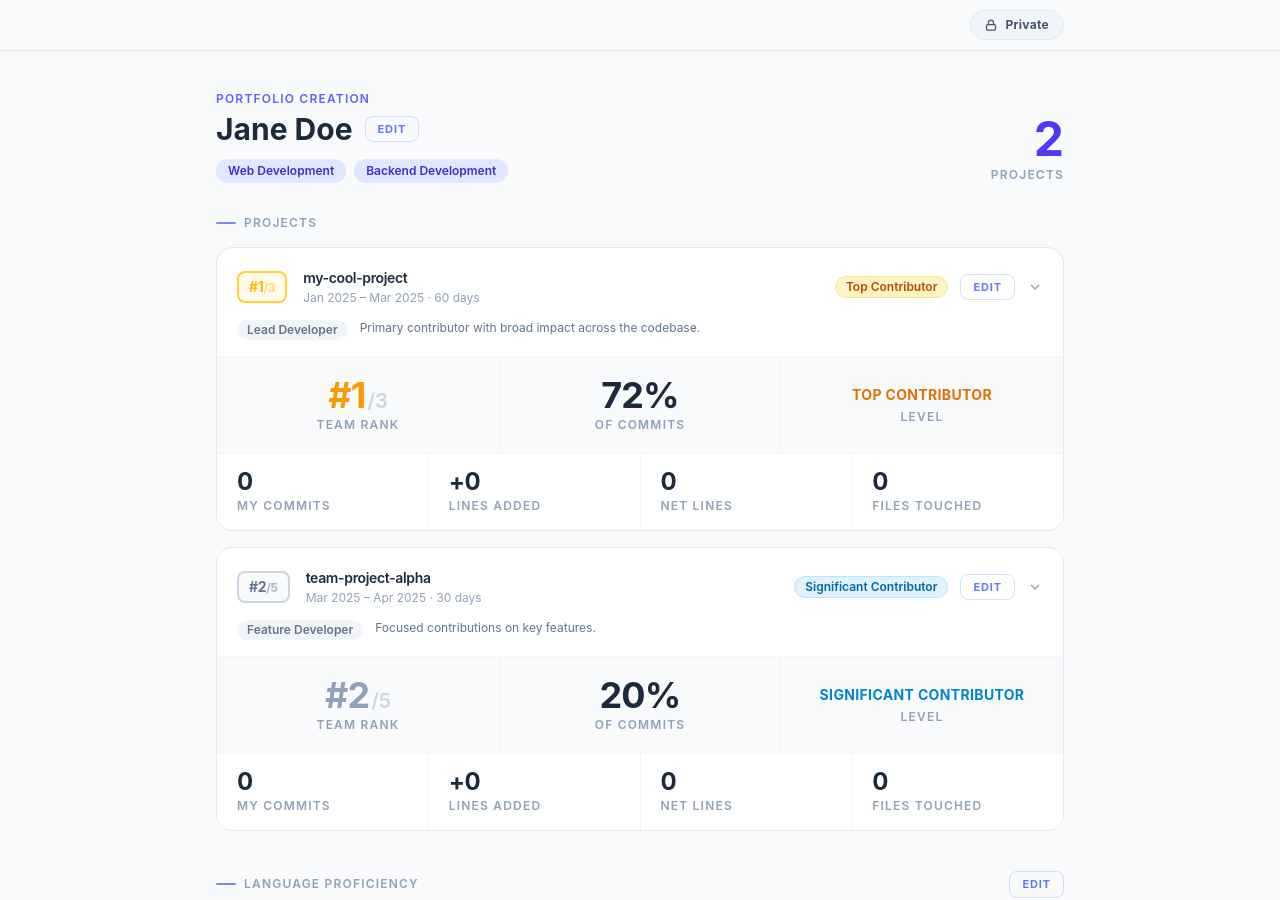
Test: Portfolio — mode toggle › switches to public mode and shows Private button
expect the heading "Jane Doe" is shown: met, box [216,111,352,147]
Click the button titled "Switch to Public" at coordinates (1017, 25), box [970,10,1064,40]
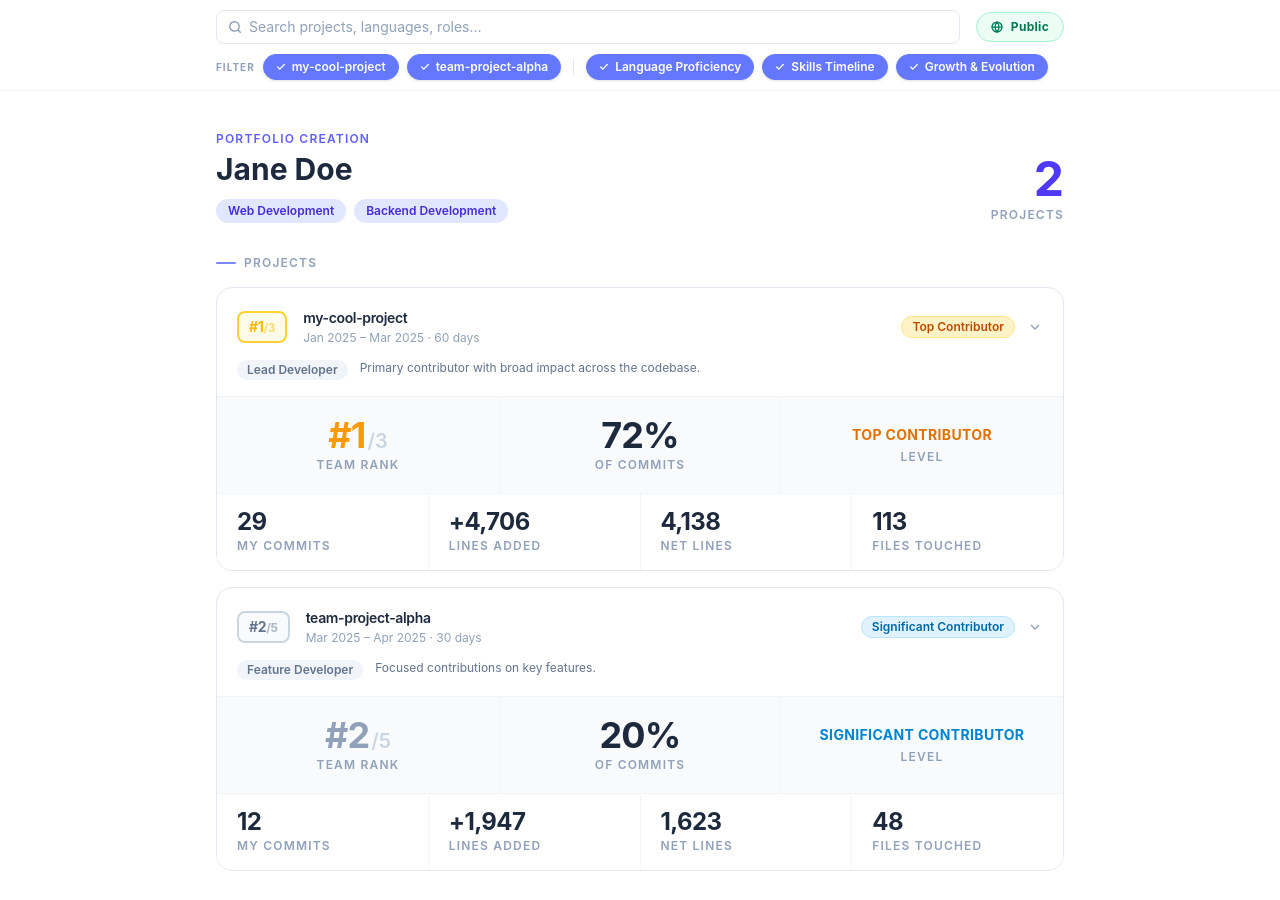
expect the button titled "Switch to Private" is shown: met, box [976,12,1064,42]
